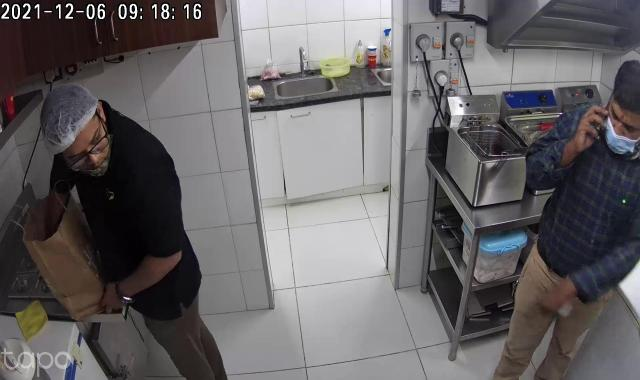hairnet: (39, 79, 100, 160)
no_hairnet: (611, 53, 640, 161)
